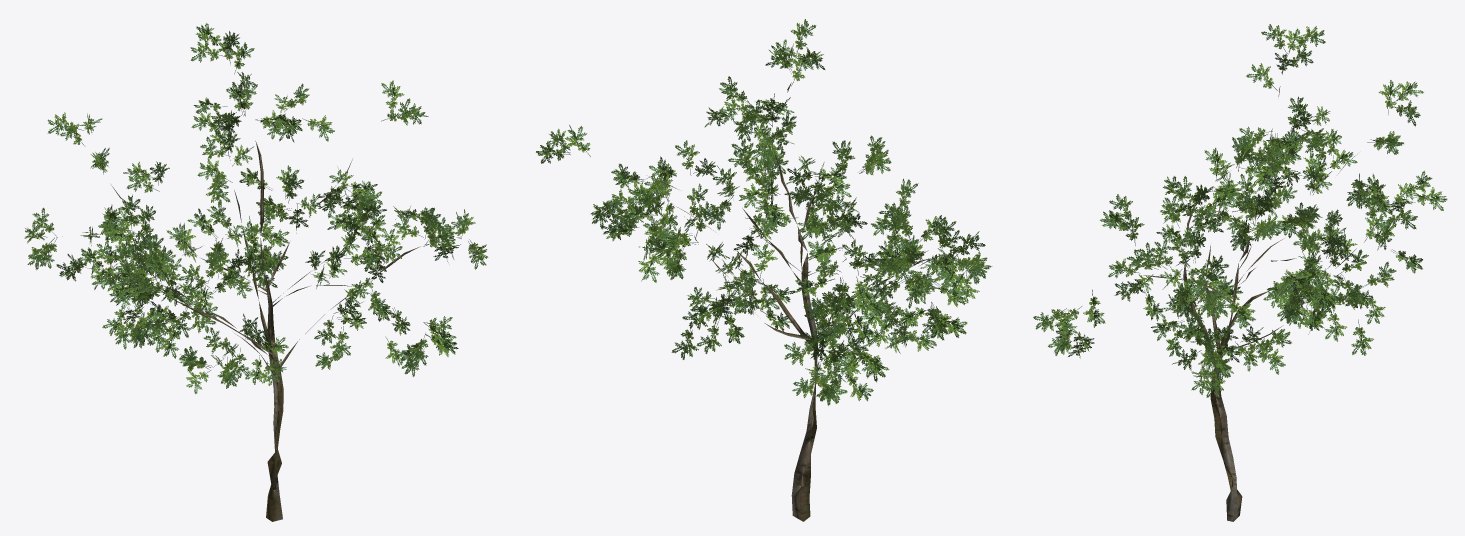
The model's file is tree_06_medium.glb.
The picture shows the model from 3 angles, left to right: view 1: azimuth 30°, elevation 25°; view 2: azimuth 150°, elevation 25°; view 3: azimuth 270°, elevation 25°; orthographic projection. The views are drawn at different scales.
Parts seen in each view (by area): view 1: tree_06; view 2: tree_06; view 3: tree_06.
Boxes of the visible parts, box(x1,y1,x2,y2) form: tree_06: box(24, 23, 488, 521); tree_06: box(536, 19, 992, 521); tree_06: box(1033, 24, 1447, 521).
Bounding box in the file's own units: 11.47 × 13 × 10.15.
2 materials, 2 textured.
